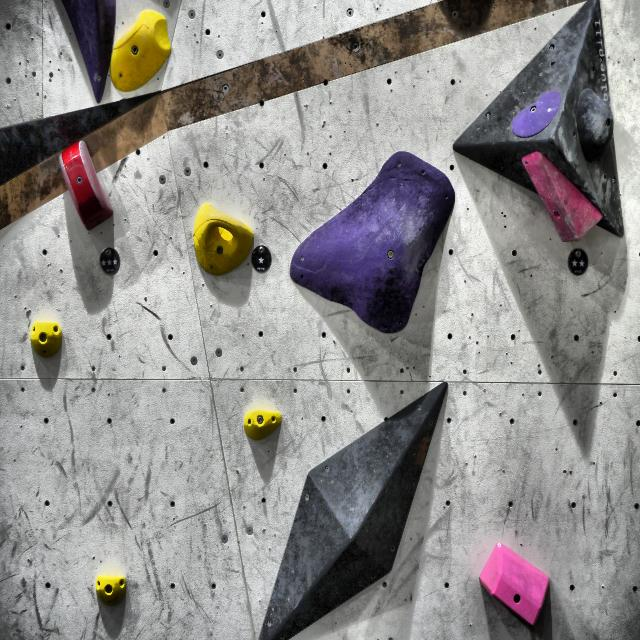Hold: (279, 153, 455, 341), (519, 156, 604, 250), (474, 537, 549, 624), (106, 0, 168, 103), (185, 204, 255, 278), (60, 135, 111, 236), (573, 80, 614, 160), (508, 88, 558, 141), (242, 406, 288, 444), (29, 318, 70, 357), (93, 573, 130, 606)
